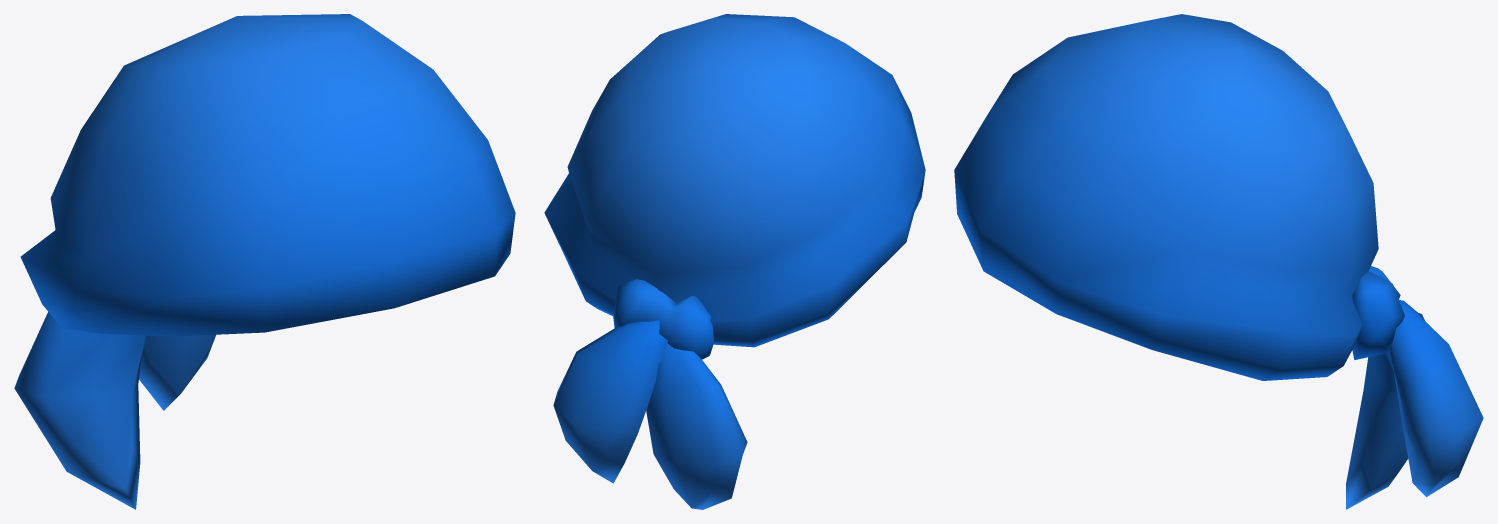
The model's file is Headgear_42.fbx.
3 views of the same model, side by side, from view 1: azimuth 30°, elevation 25°; view 2: azimuth 150°, elevation 25°; view 3: azimuth 270°, elevation 25° (orthographic). The views are drawn at different scales.
Visible parts, largest first — view 1: Headgear_42; view 2: Headgear_42; view 3: Headgear_42.
Boxes of the visible parts, x1=… form: Headgear_42: x1=14, y1=14, x2=515, y2=509; Headgear_42: x1=544, y1=14, x2=925, y2=509; Headgear_42: x1=954, y1=14, x2=1483, y2=509.
Bounding box in the file's own units: 66.16 × 81.44 × 79.96.
